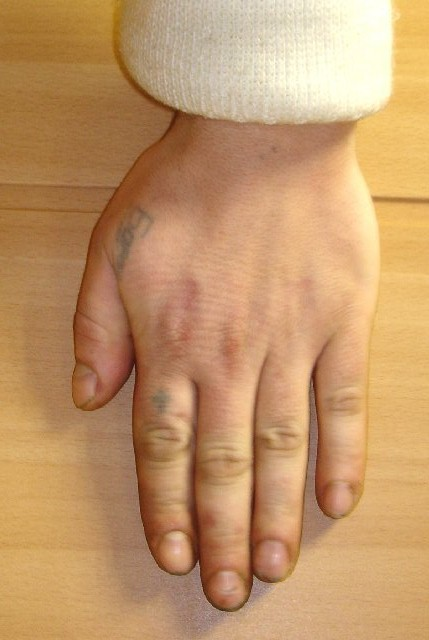tatu9_krest: (152, 381, 177, 414)
